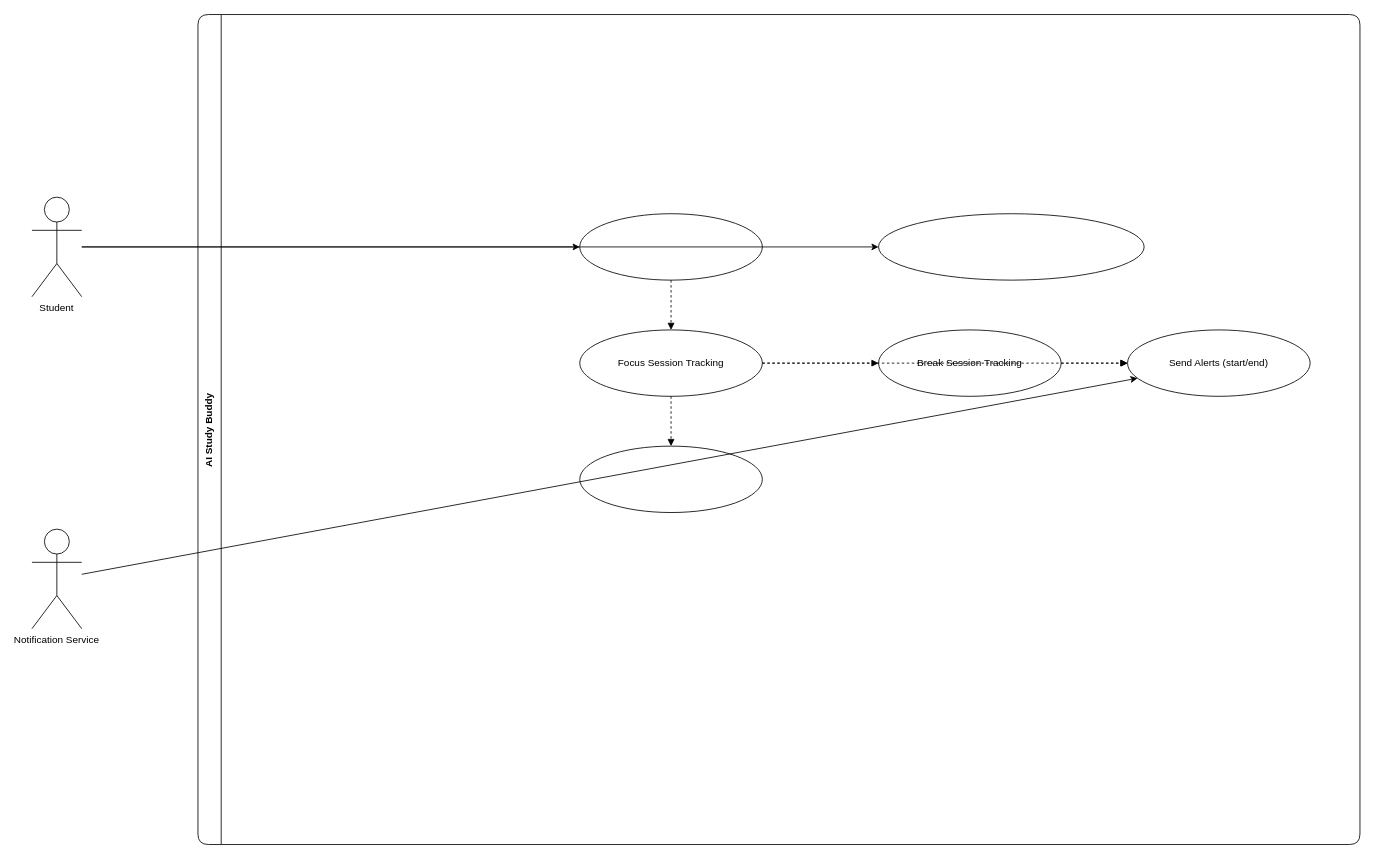
Some shapes in this 1374 by 859 pixel diagram are drawn without their labels. Each missing label, with the centre of its shape:
Adjust Timer (25/5/long break): the point at 1011,246
Log & View Stats: the point at 670,479
Start Pomodoro: the point at 670,246
